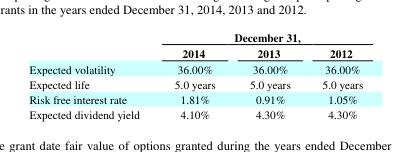table: (28, 28, 362, 121)
table column: (28, 28, 156, 121), (156, 28, 231, 121), (231, 28, 305, 121), (305, 28, 362, 121)
table column header: (28, 28, 362, 60)
table row: (28, 28, 362, 44), (28, 44, 362, 60), (28, 75, 362, 91), (28, 60, 362, 75), (28, 91, 362, 106), (28, 106, 362, 121)
table spanning cell: (156, 28, 362, 44)
